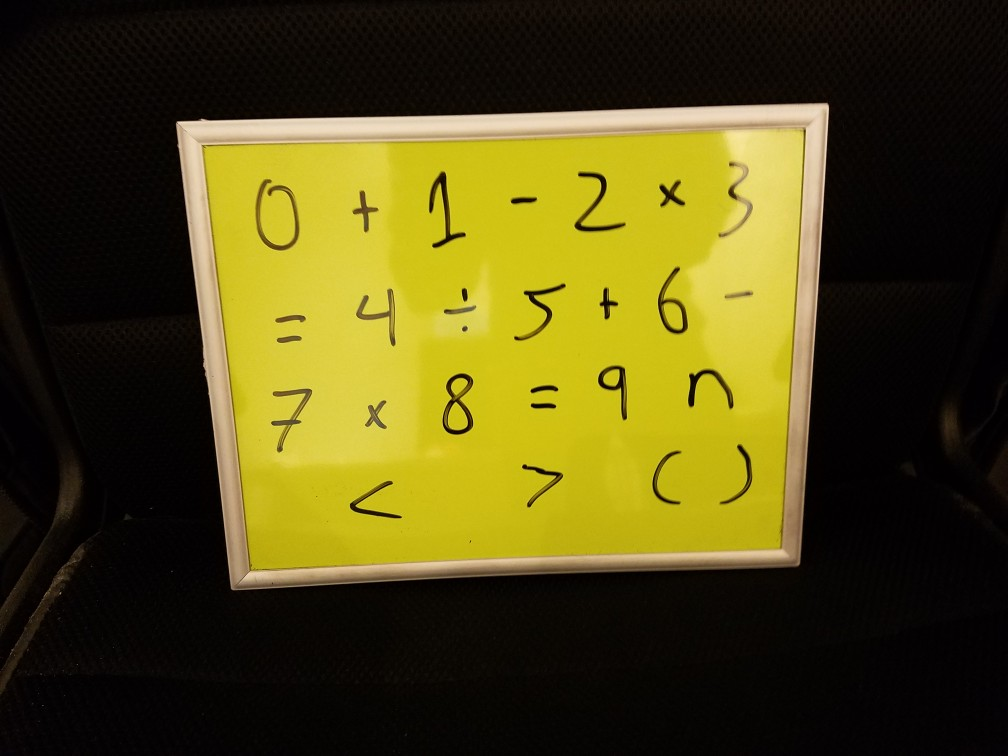(: (642, 441, 689, 513)
): (716, 438, 764, 509)
+: (346, 183, 383, 238), (589, 277, 624, 321)
-: (504, 183, 546, 212), (717, 281, 758, 306)
0: (250, 173, 306, 259)
1: (421, 169, 474, 252)
2: (568, 162, 629, 247)
3: (713, 151, 756, 242)
4: (350, 282, 405, 350)
5: (509, 275, 568, 348)
6: (646, 258, 698, 341)
7: (259, 380, 318, 457)
8: (429, 366, 482, 442)
9: (593, 359, 636, 427)
<: (340, 470, 411, 529)
=: (518, 376, 566, 421), (264, 307, 316, 348)
>: (509, 453, 571, 511)
div: (439, 280, 482, 333)
n: (674, 359, 741, 422)
x: (650, 171, 692, 212), (360, 392, 392, 439)
